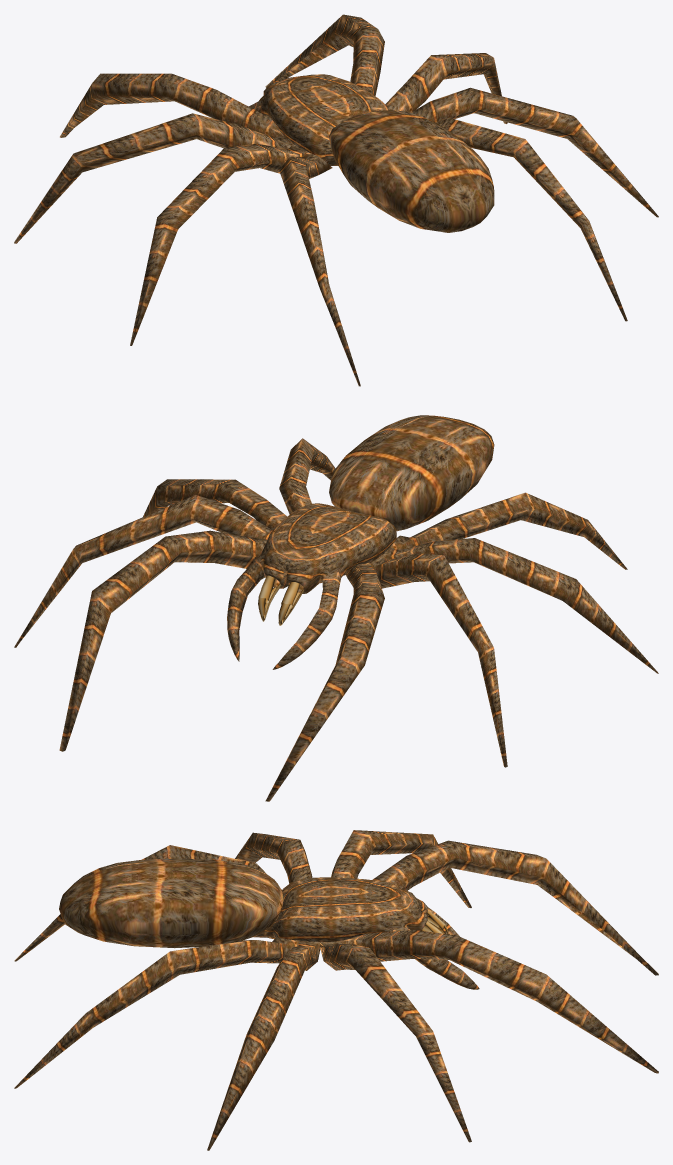
File: spider1.fbx
3 renders of one model, top to bottom at view 1: azimuth 30°, elevation 25°; view 2: azimuth 150°, elevation 25°; view 3: azimuth 270°, elevation 25°, orthographic. The views are drawn at different scales.
Parts seen in each view (by area): view 1: Spider; view 2: Spider, Spider_teeth; view 3: Spider.
Boxes of the visible parts, <box> form: Spider: <box>14,14,658,386</box>; Spider: <box>14,415,658,801</box>; Spider_teeth: <box>258,575,303,625</box>; Spider: <box>14,830,658,1150</box>.
Size of the model in its own units: 184 by 53.03 by 199.
Materials: 2 (2 with a texture image).
